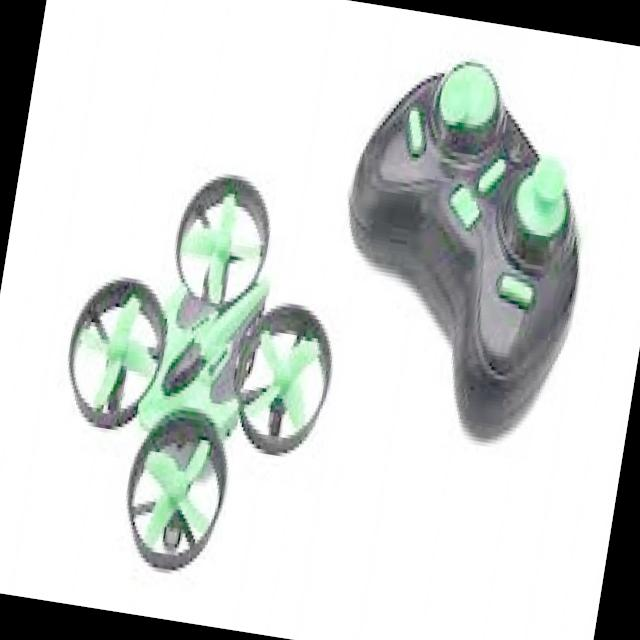drone: (29, 142, 370, 608)
